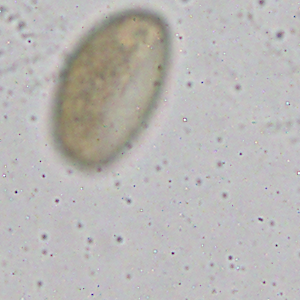Fasciola_hepatica_egg: (51, 6, 172, 171)
